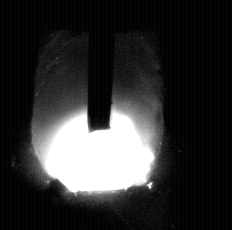arame: (87, 0, 112, 133)
poca: (30, 0, 163, 230)
